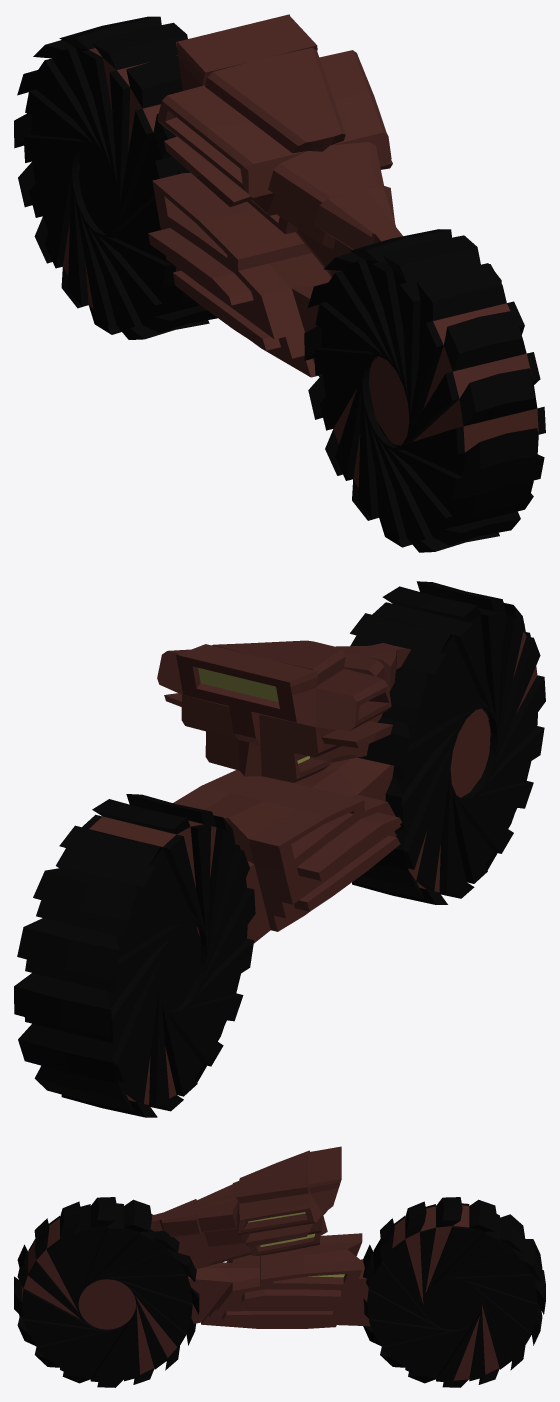
The model's file is Motocycle basic 1.fbx.
3 renders of one model, top to bottom at view 1: azimuth 30°, elevation 25°; view 2: azimuth 150°, elevation 25°; view 3: azimuth 270°, elevation 25°, orthographic. The views are drawn at different scales.
Parts seen in each view (by area): view 1: Wheel1, Wheel2, Corpus1, Cube; view 2: Wheel2, Wheel1, Corpus1, Cube; view 3: Wheel2, Wheel1, Corpus1, Cube.
Part boxes in pixels (<box>): Wheel1: <box>304,229,545,552</box>; Wheel2: <box>14,16,217,339</box>; Corpus1: <box>157,14,402,277</box>; Cube: <box>148,172,331,377</box>; Wheel2: <box>14,794,255,1117</box>; Wheel1: <box>350,581,545,904</box>; Corpus1: <box>157,640,410,782</box>; Cube: <box>173,757,402,943</box>; Wheel2: <box>363,1197,545,1387</box>; Wheel1: <box>14,1197,199,1387</box>; Corpus1: <box>150,1146,341,1269</box>; Cube: <box>188,1233,370,1328</box>.
Bounding box in the file's own units: 159 × 277 × 623.
